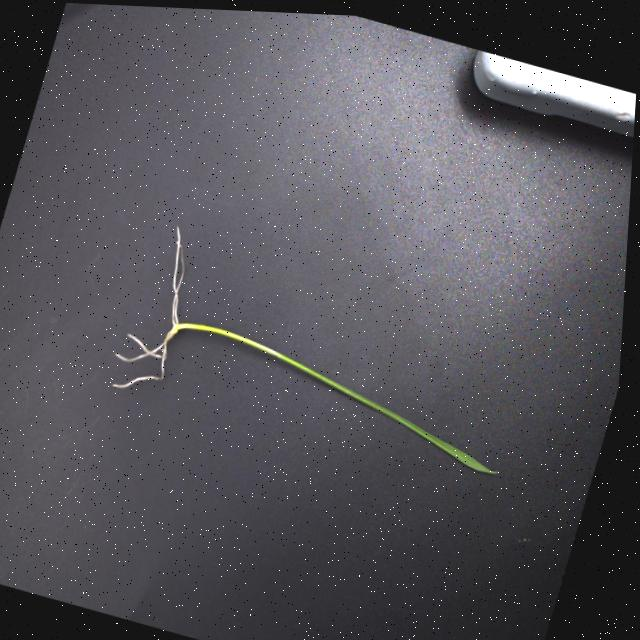leaf: (278, 351, 499, 479)
root: (109, 227, 183, 390)
steb: (170, 322, 281, 360)
